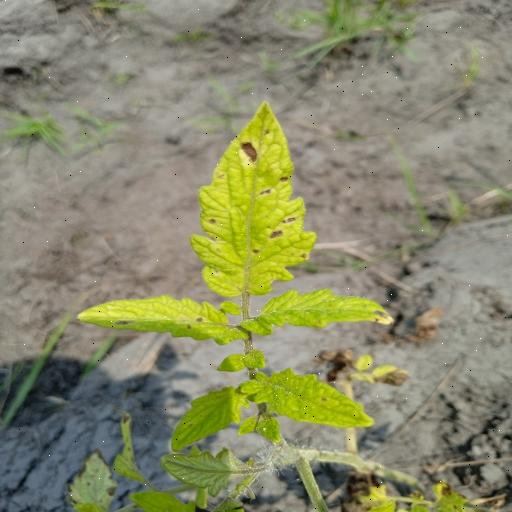Tomato_Brown_Spots: (184, 92, 326, 302)
